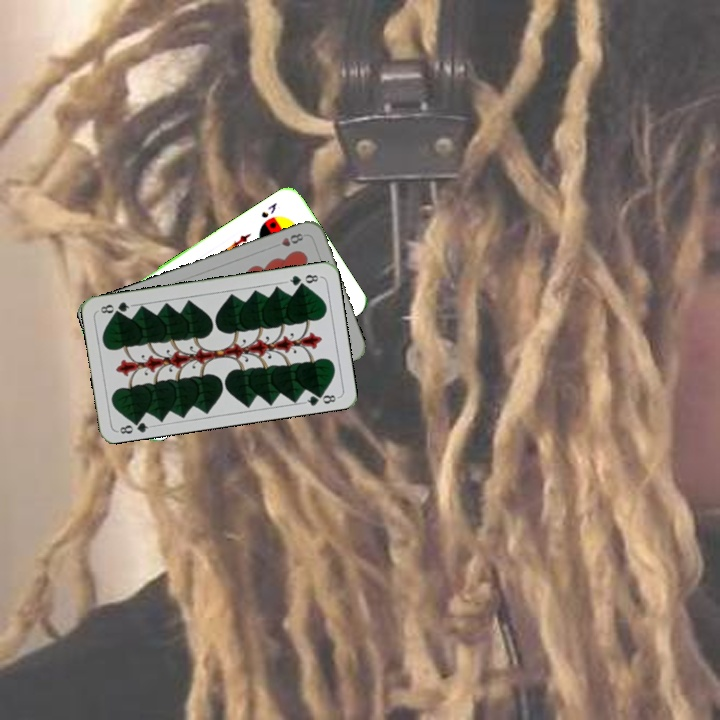G8: (114, 414, 155, 437), (282, 270, 323, 289)
H8: (277, 229, 306, 249)
SK: (257, 198, 280, 221)
